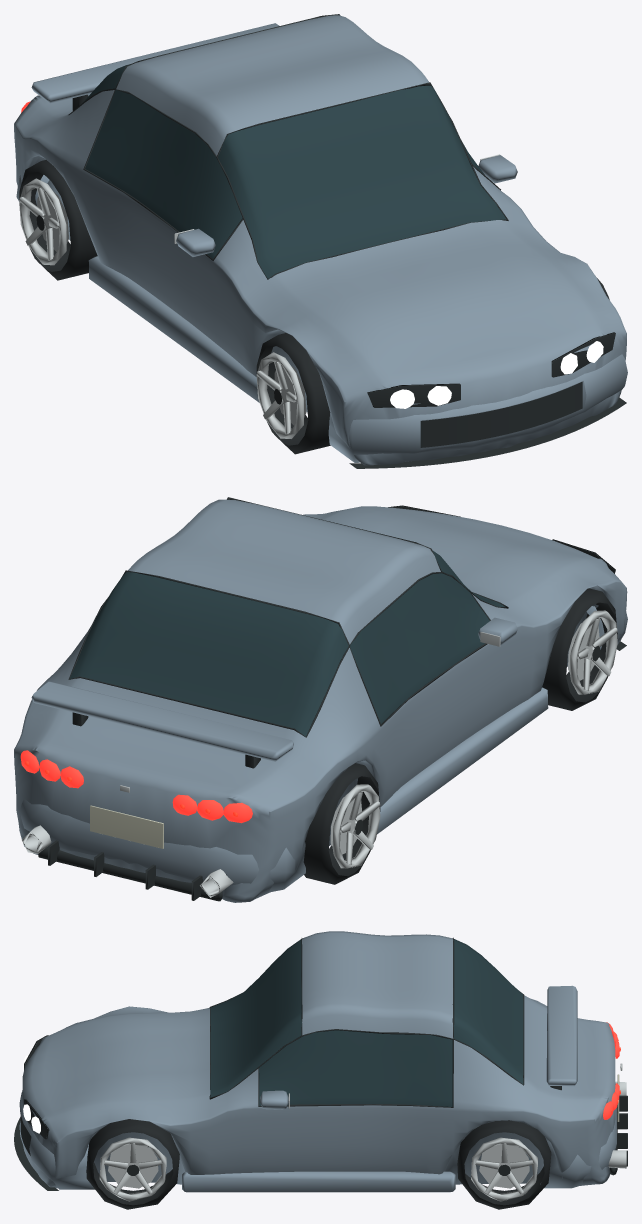
The model's file is velan-gt.glb.
3 views of the same model, one above another, from view 1: azimuth 30°, elevation 25°; view 2: azimuth 150°, elevation 25°; view 3: azimuth 270°, elevation 25° (orthographic). The views are drawn at different scales.
Visible parts, largest first — view 1: cristallo_ant, cofano, scocca, tetto, cristallo_sx, porta_sx, paraurti_ant, minigonna_sx, griglia, ruota_ant_sx_gomma, ruota_post_sx_gomma, spoiler (+13 smaller); view 2: scocca, cristallo_post, tetto, portellone, cristallo_sx, cofano, porta_sx, paraurti_post, spoiler, minigonna_sx, ruota_post_sx_gomma, ruota_ant_sx_gomma (+13 smaller); view 3: scocca, cofano, tetto, porta_dx, cristallo_dx, cristallo_ant, cristallo_post, minigonna_dx, portellone, spoiler, ruota_ant_dx_gomma, ruota_post_dx_gomma (+13 smaller).
Boxes of the visible parts, <box> form: cristallo_ant: <box>218,85,506,278</box>; cofano: <box>268,220,601,379</box>; scocca: <box>14,90,626,465</box>; tetto: <box>116,15,428,155</box>; cristallo_sx: <box>85,90,242,258</box>; porta_sx: <box>83,170,227,352</box>; paraurti_ant: <box>328,354,627,462</box>; minigonna_sx: <box>88,256,259,402</box>; griglia: <box>420,381,582,447</box>; ruota_ant_sx_gomma: <box>256,333,330,454</box>; ruota_post_sx_gomma: <box>19,159,97,280</box>; spoiler: <box>31,23,279,103</box>; scocca: <box>14,507,627,902</box>; cristallo_post: <box>69,572,348,736</box>; tetto: <box>128,499,440,644</box>; portellone: <box>29,678,305,801</box>; cristallo_sx: <box>350,573,489,723</box>; cofano: <box>320,506,601,608</box>; porta_sx: <box>378,639,511,807</box>; paraurti_post: <box>20,799,305,892</box>; spoiler: <box>31,681,293,761</box>; minigonna_sx: <box>377,687,548,834</box>; ruota_post_sx_gomma: <box>303,763,380,884</box>; ruota_ant_sx_gomma: <box>542,588,617,710</box>; scocca: <box>22,998,615,1188</box>; cofano: <box>44,1008,210,1120</box>; tetto: <box>302,931,453,1038</box>; porta_dx: <box>243,1105,453,1174</box>; cristallo_dx: <box>259,1030,452,1106</box>; cristallo_ant: <box>210,939,301,1097</box>; cristallo_post: <box>453,939,523,1084</box>; minigonna_dx: <box>182,1171,455,1192</box>; portellone: <box>524,995,615,1103</box>; spoiler: <box>546,985,577,1086</box>; ruota_ant_dx_gomma: <box>86,1119,179,1209</box>; ruota_post_dx_gomma: <box>457,1120,551,1209</box>.
Bounding box in the file's own units: 2.12 × 1.46 × 4.4.
